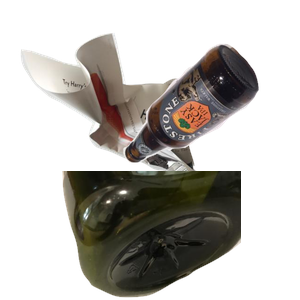glass: (120, 41, 300, 196)
paper: (18, 30, 213, 210)
plastic: (60, 171, 300, 300)
trash: (73, 171, 242, 300)
